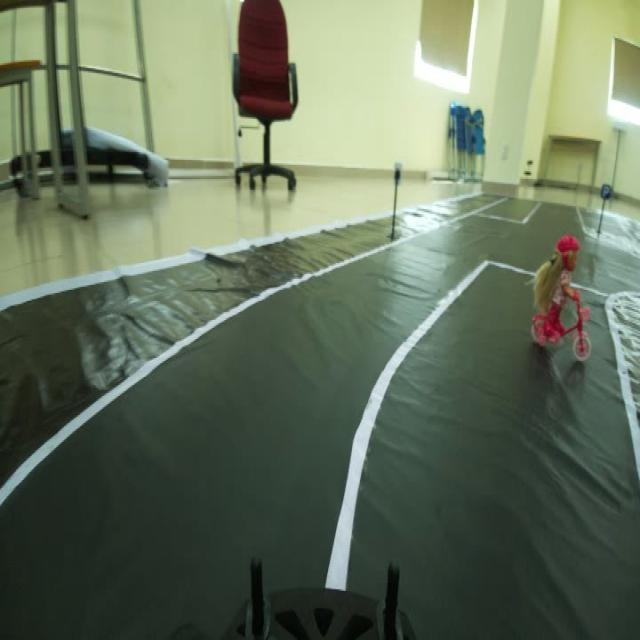pedestrian: (528, 218, 595, 359)
